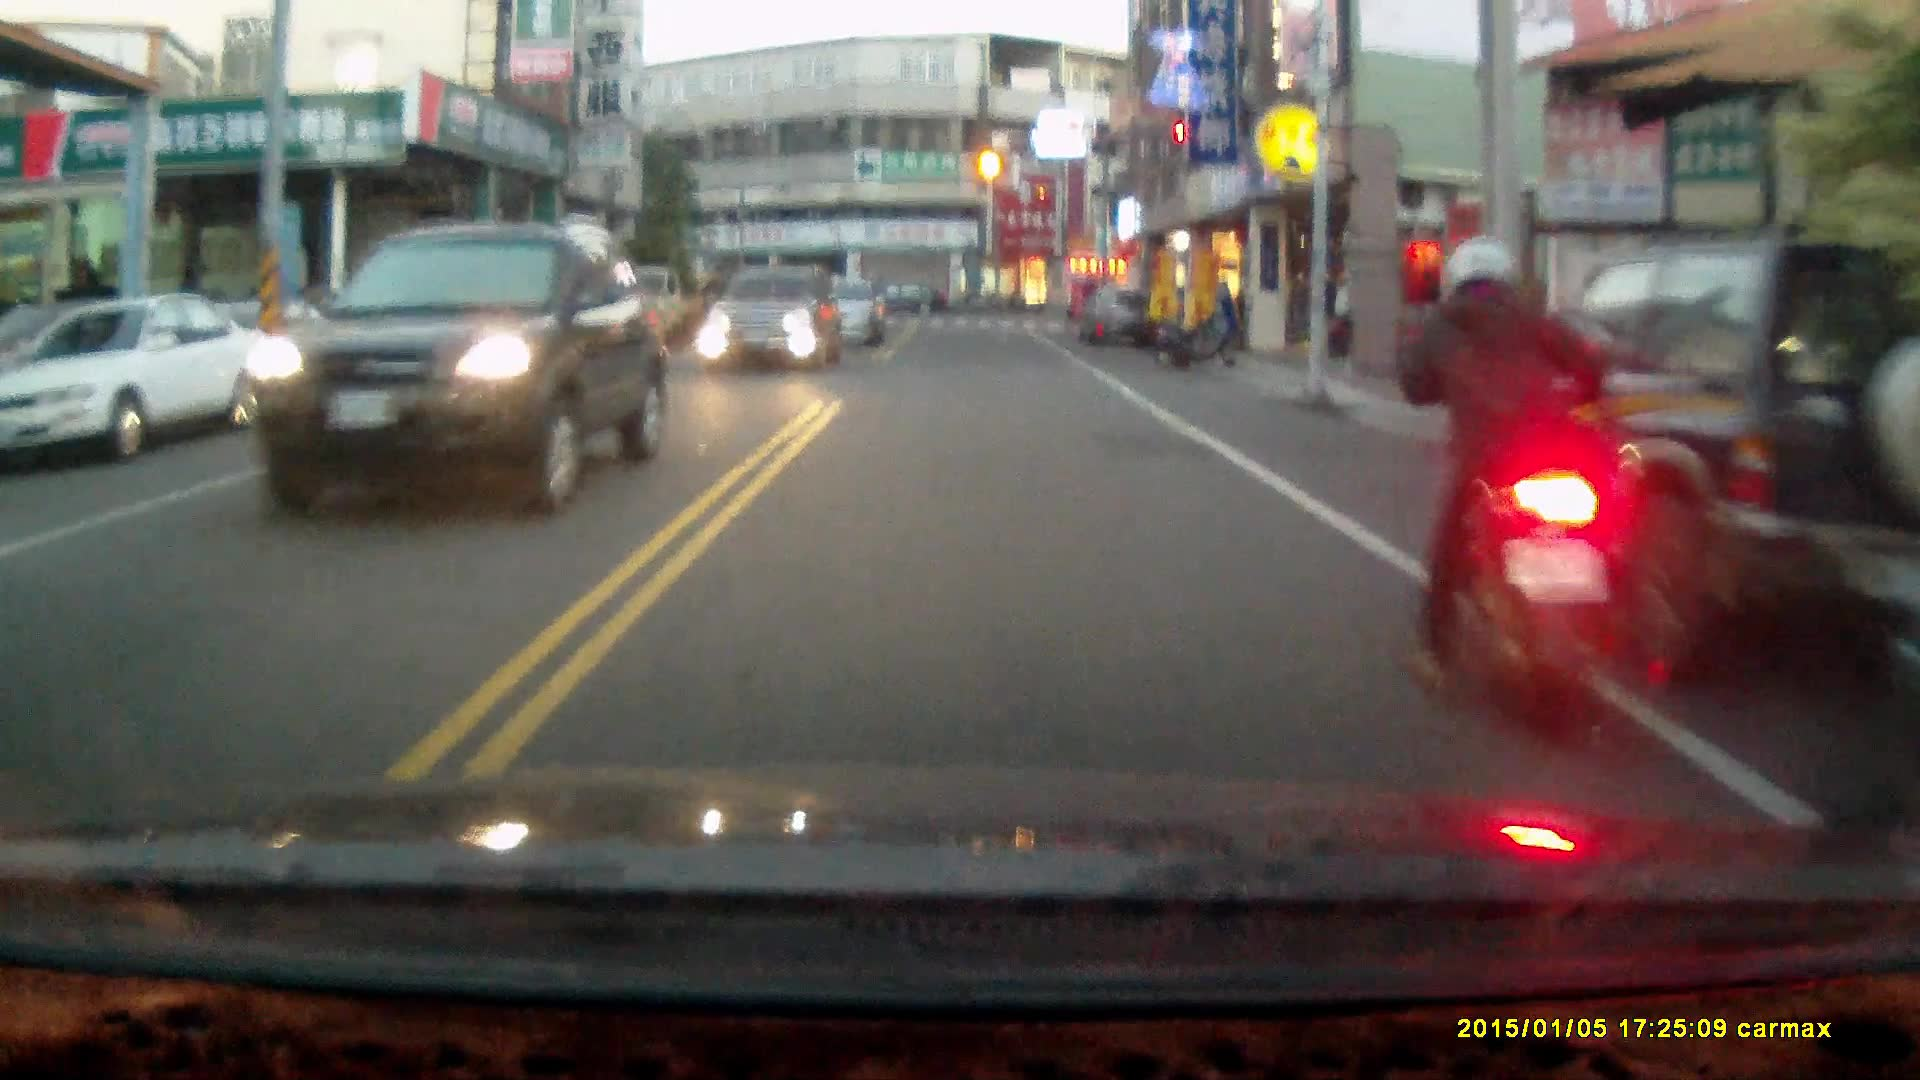rider: (1391, 238, 1640, 749)
vehicle: (1467, 236, 1920, 665), (246, 223, 652, 522), (1, 295, 290, 462), (701, 268, 845, 376), (785, 274, 885, 350), (1079, 288, 1154, 353)
